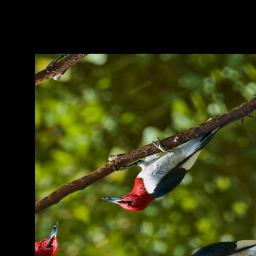Woodpecker: (88, 108, 246, 223)
